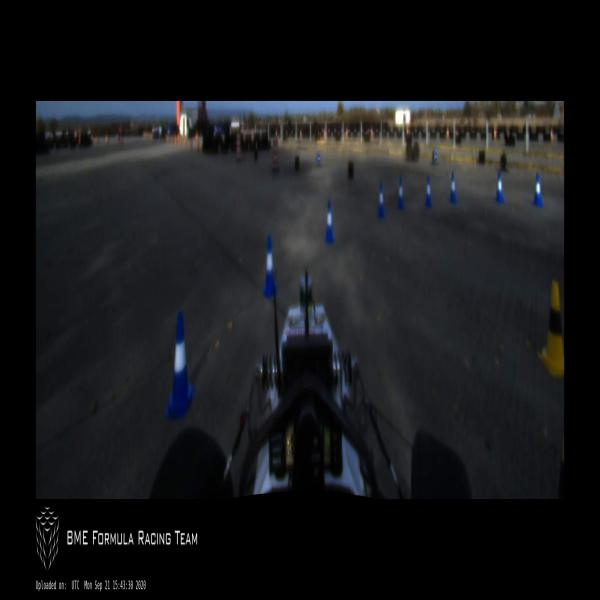blue_cone: (164, 312, 194, 418), (261, 236, 277, 296), (325, 200, 334, 243), (377, 182, 386, 220), (532, 173, 542, 206), (424, 174, 433, 209), (397, 176, 405, 211), (496, 171, 504, 205), (449, 172, 457, 204)
unknown_cone: (348, 162, 354, 180), (295, 156, 299, 171)
yellow_cone: (539, 282, 564, 379)
